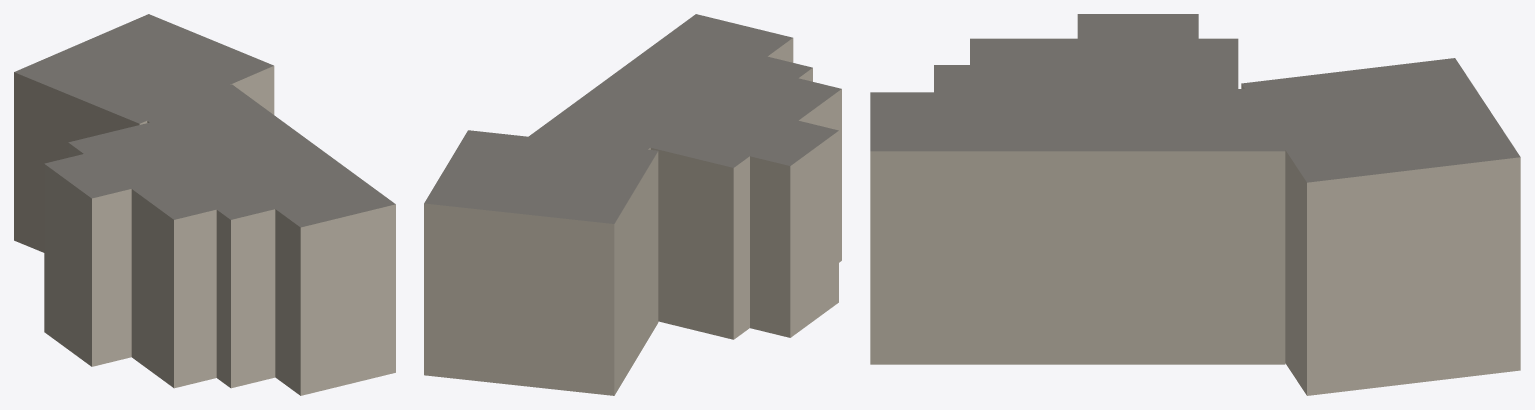
The picture shows the model from 3 angles, left to right: view 1: azimuth 30°, elevation 25°; view 2: azimuth 150°, elevation 25°; view 3: azimuth 270°, elevation 25°; orthographic projection. The views are drawn at different scales.
Visible parts, largest first — view 1: HP-w859447880; view 2: HP-w859447880; view 3: HP-w859447880.
Part boxes in pixels (bbox=[...]): HP-w859447880: bbox=[14, 14, 395, 395]; HP-w859447880: bbox=[424, 14, 841, 395]; HP-w859447880: bbox=[870, 14, 1520, 395].
Size of the model in its own units: 25.44 by 15 by 41.46.
